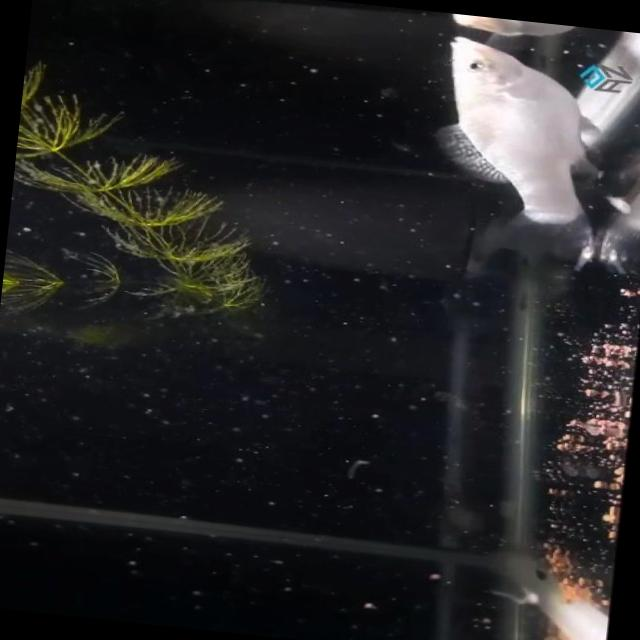PlatyFish: (406, 24, 632, 282)
